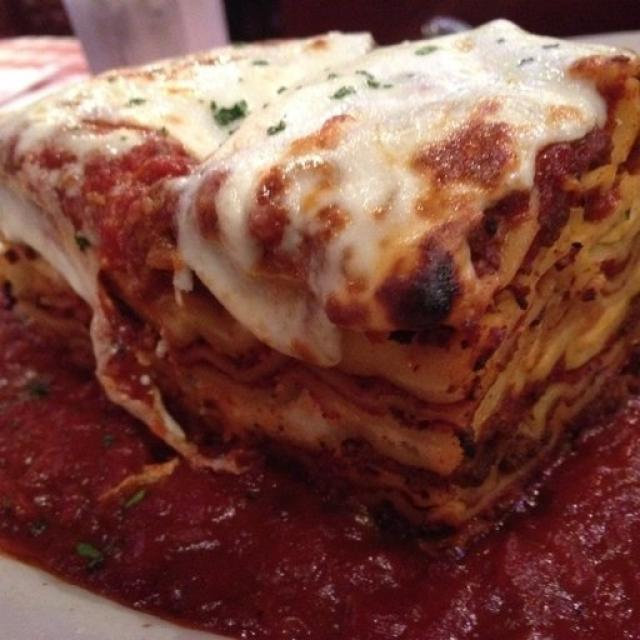Lasagna: (14, 27, 615, 542)
